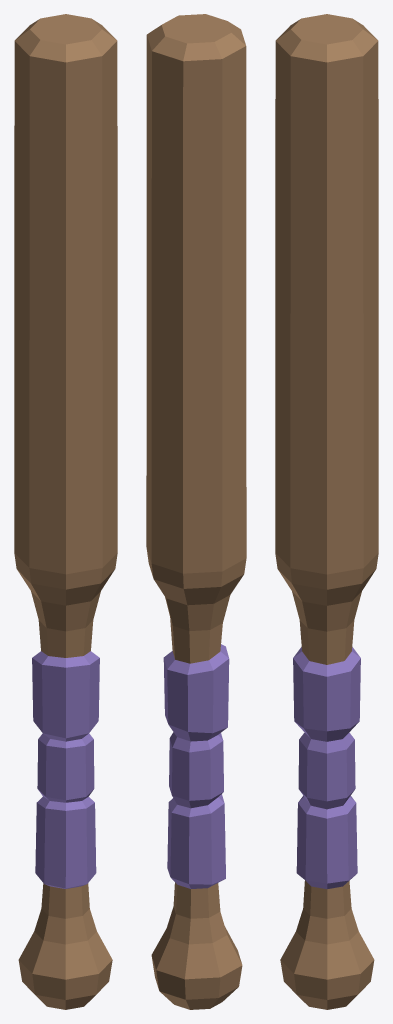
The model's file is SM_pwe_china_club_01b.fbx.
3 renders of one model, left to right at view 1: azimuth 90°, elevation 25°; view 2: azimuth 210°, elevation 25°; view 3: azimuth 270°, elevation 25°, orthographic.
Visible parts, largest first — view 1: SM_pwe_china_club_01b; view 2: SM_pwe_china_club_01b; view 3: SM_pwe_china_club_01b.
Boxes of the visible parts, x1=… form: SM_pwe_china_club_01b: x1=14, y1=14, x2=117, y2=1009; SM_pwe_china_club_01b: x1=146, y1=14, x2=246, y2=1009; SM_pwe_china_club_01b: x1=275, y1=14, x2=378, y2=1009.
Size of the model in its own units: 8.59 by 88.75 by 8.59.
